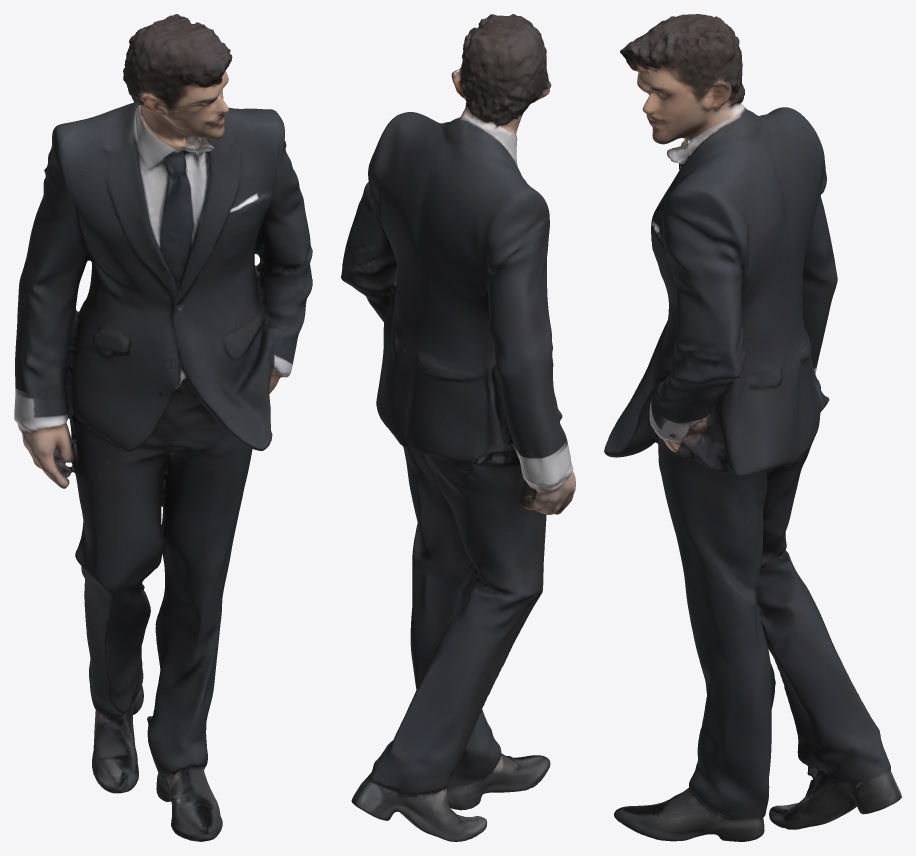
The model's file is midnight-executive.glb.
3 views of the same model, side by side, from view 1: azimuth 30°, elevation 25°; view 2: azimuth 150°, elevation 25°; view 3: azimuth 270°, elevation 25° (orthographic). The views are drawn at different scales.
Bounding box in the file's own units: 0.6764 × 2 × 0.6701.
1 material, 1 textured.
